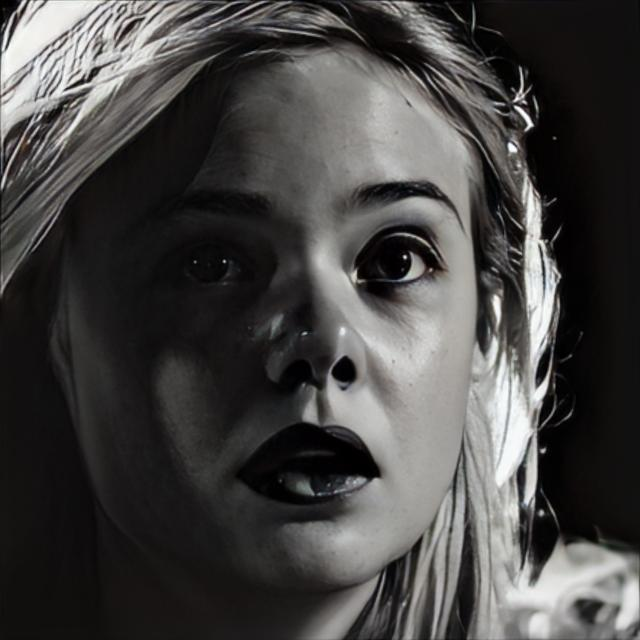surprise: (64, 37, 478, 608)
